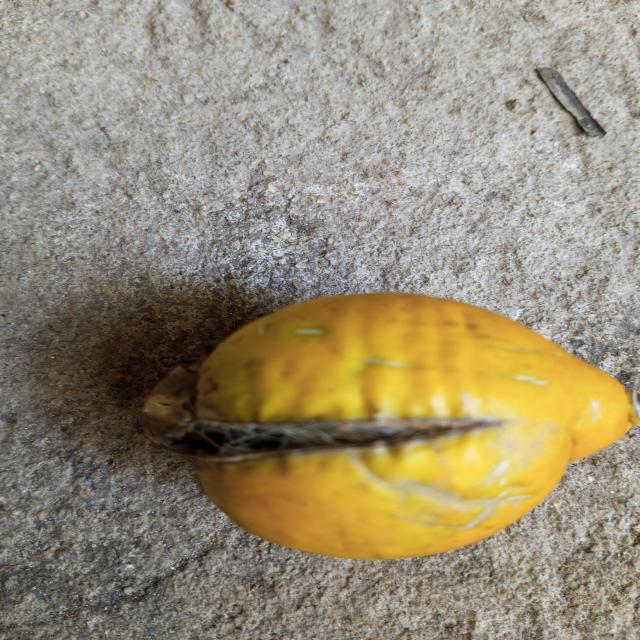damaged: (142, 293, 640, 559)
